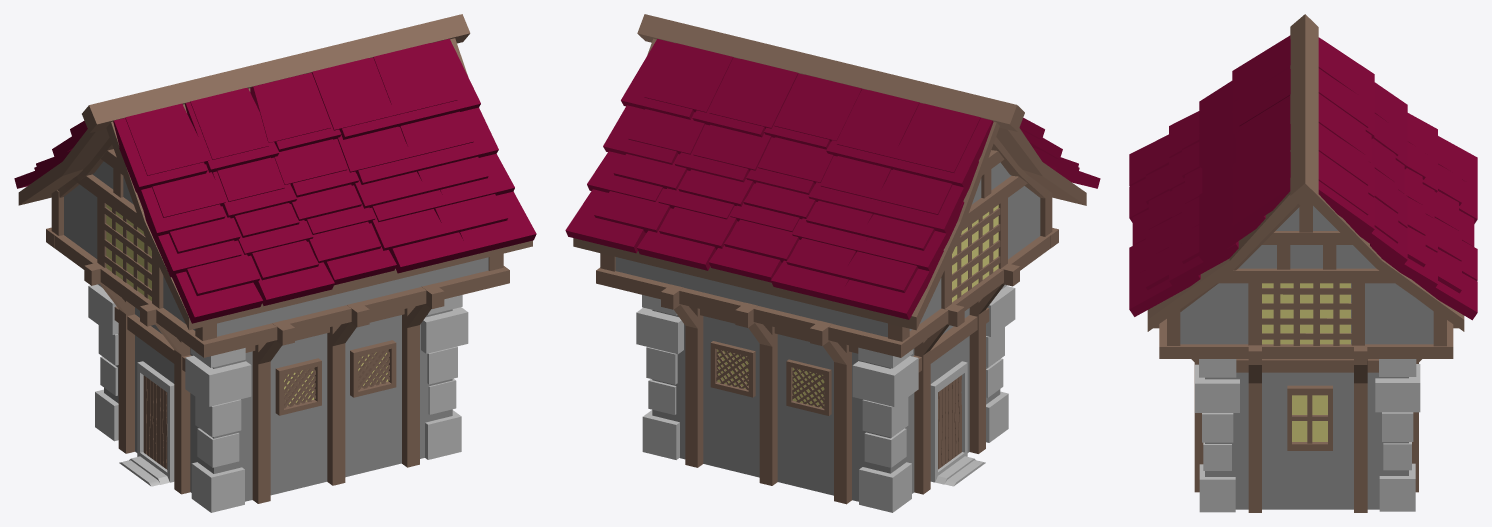
File: House.fbx
The picture shows the model from 3 angles, left to right: view 1: azimuth 30°, elevation 25°; view 2: azimuth 150°, elevation 25°; view 3: azimuth 270°, elevation 25°; orthographic projection. The views are drawn at different scales.
Visible parts, largest first — view 1: TOITGAUCHE3, TOITGAUCHE, Base, pCube122, bastoit, pCube37, pCube121, pCube50, pCube51, pCube52, encadrement, pCube18 (+26 smaller); view 2: TOITGAUCHE1, TOITGAUCHE2, Base, pCube122, bastoit, pCube120, pCube38, pCube53, pCube54, pCube55, encadrement, pCube57 (+23 smaller); view 3: TOITGAUCHE1, TOITGAUCHE3, Base, TOITGAUCHE, TOITGAUCHE2, bastoit, pCube122, pCube36, pCube121, pCube143, pCube93, pCube120 (+31 smaller).
Boxes of the visible parts, <box> form: TOITGAUCHE3: <box>125,43,507,295</box>; TOITGAUCHE: <box>113,38,536,323</box>; Base: <box>104,307,452,501</box>; pCube122: <box>82,14,470,132</box>; bastoit: <box>64,161,488,336</box>; pCube37: <box>195,266,509,357</box>; pCube121: <box>106,38,532,330</box>; pCube50: <box>252,340,281,503</box>; pCube51: <box>327,322,356,485</box>; pCube52: <box>402,304,430,467</box>; encadrement: <box>119,361,174,486</box>; pCube18: <box>185,355,251,406</box>; TOITGAUCHE1: <box>594,43,980,292</box>; TOITGAUCHE2: <box>565,39,993,319</box>; Base: <box>652,308,1000,501</box>; pCube122: <box>637,14,1024,131</box>; bastoit: <box>615,162,1040,337</box>; pCube120: <box>573,38,999,330</box>; pCube38: <box>596,267,909,357</box>; pCube53: <box>674,304,703,467</box>; pCube54: <box>748,322,777,485</box>; pCube55: <box>823,340,851,504</box>; encadrement: <box>930,361,985,486</box>; pCube57: <box>969,284,1004,453</box>; TOITGAUCHE1: <box>1318,41,1461,293</box>; TOITGAUCHE3: <box>1145,39,1290,289</box>; Base: <box>1205,372,1408,509</box>; TOITGAUCHE: <box>1129,35,1290,316</box>; TOITGAUCHE2: <box>1318,37,1477,320</box>; bastoit: <box>1180,206,1433,344</box>; pCube122: <box>1290,14,1318,208</box>; pCube36: <box>1168,344,1445,358</box>; pCube121: <box>1147,191,1297,331</box>; pCube143: <box>1262,283,1350,344</box>; pCube93: <box>1217,268,1394,283</box>; pCube120: <box>1312,194,1464,331</box>.
Bounding box in the file's own units: 420 × 410 × 365.
